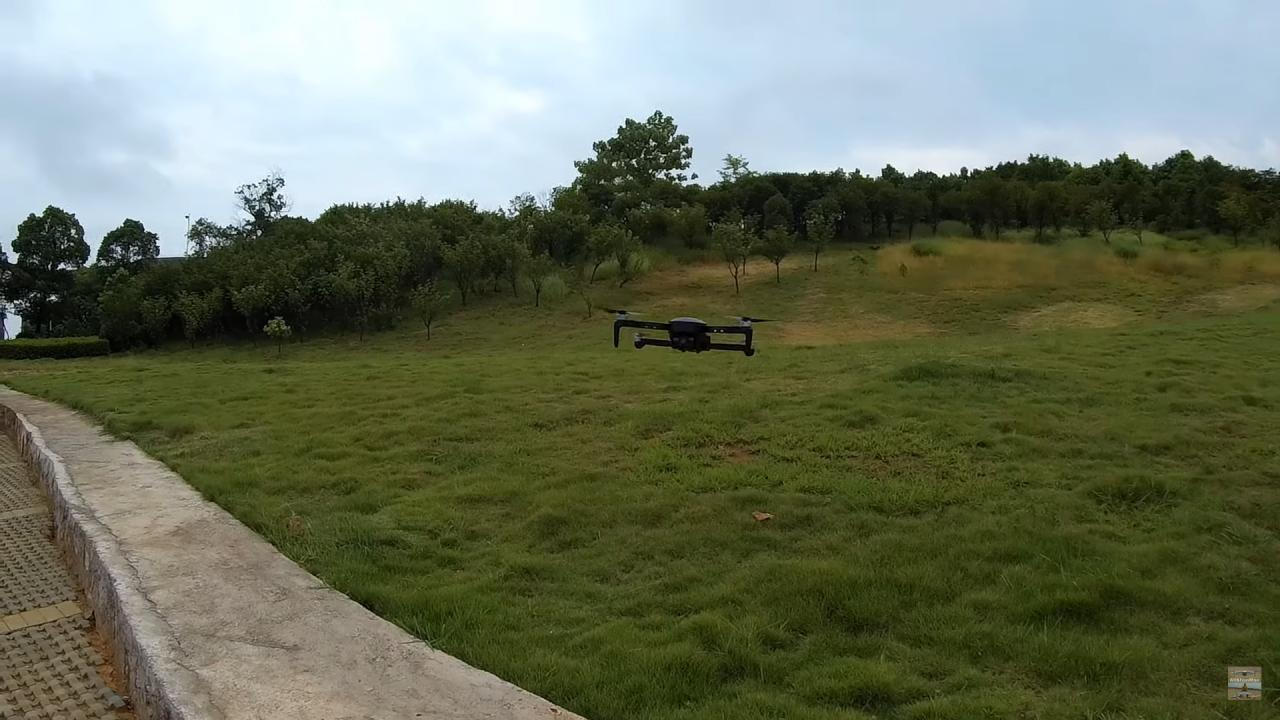Drone: (587, 294, 785, 368)
